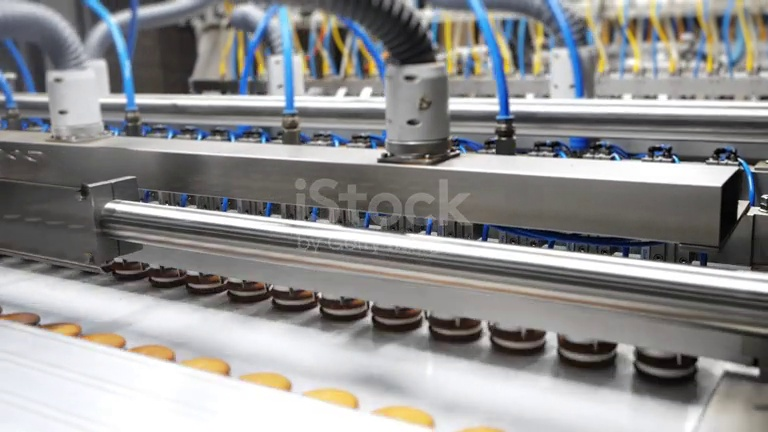machine: (19, 6, 768, 271)
produit: (555, 340, 619, 369), (301, 387, 360, 416), (429, 317, 488, 345), (181, 351, 230, 382), (371, 304, 425, 332), (487, 329, 549, 352), (375, 405, 436, 428), (640, 352, 697, 376), (320, 299, 370, 326), (186, 273, 228, 299), (245, 371, 284, 397), (270, 290, 318, 309), (45, 316, 81, 341), (131, 344, 177, 362), (230, 282, 267, 304), (150, 268, 190, 288), (112, 263, 147, 284), (13, 309, 41, 328), (86, 334, 128, 344)
